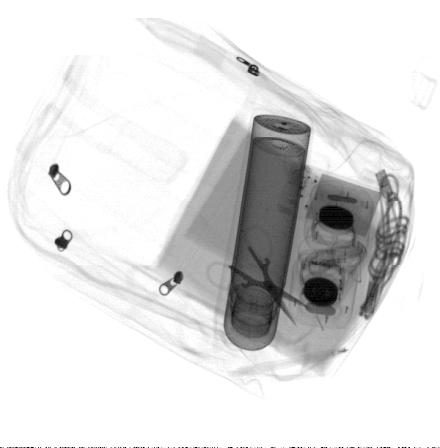Powerbank: (277, 158, 387, 239)
Scissors: (206, 224, 314, 327)
